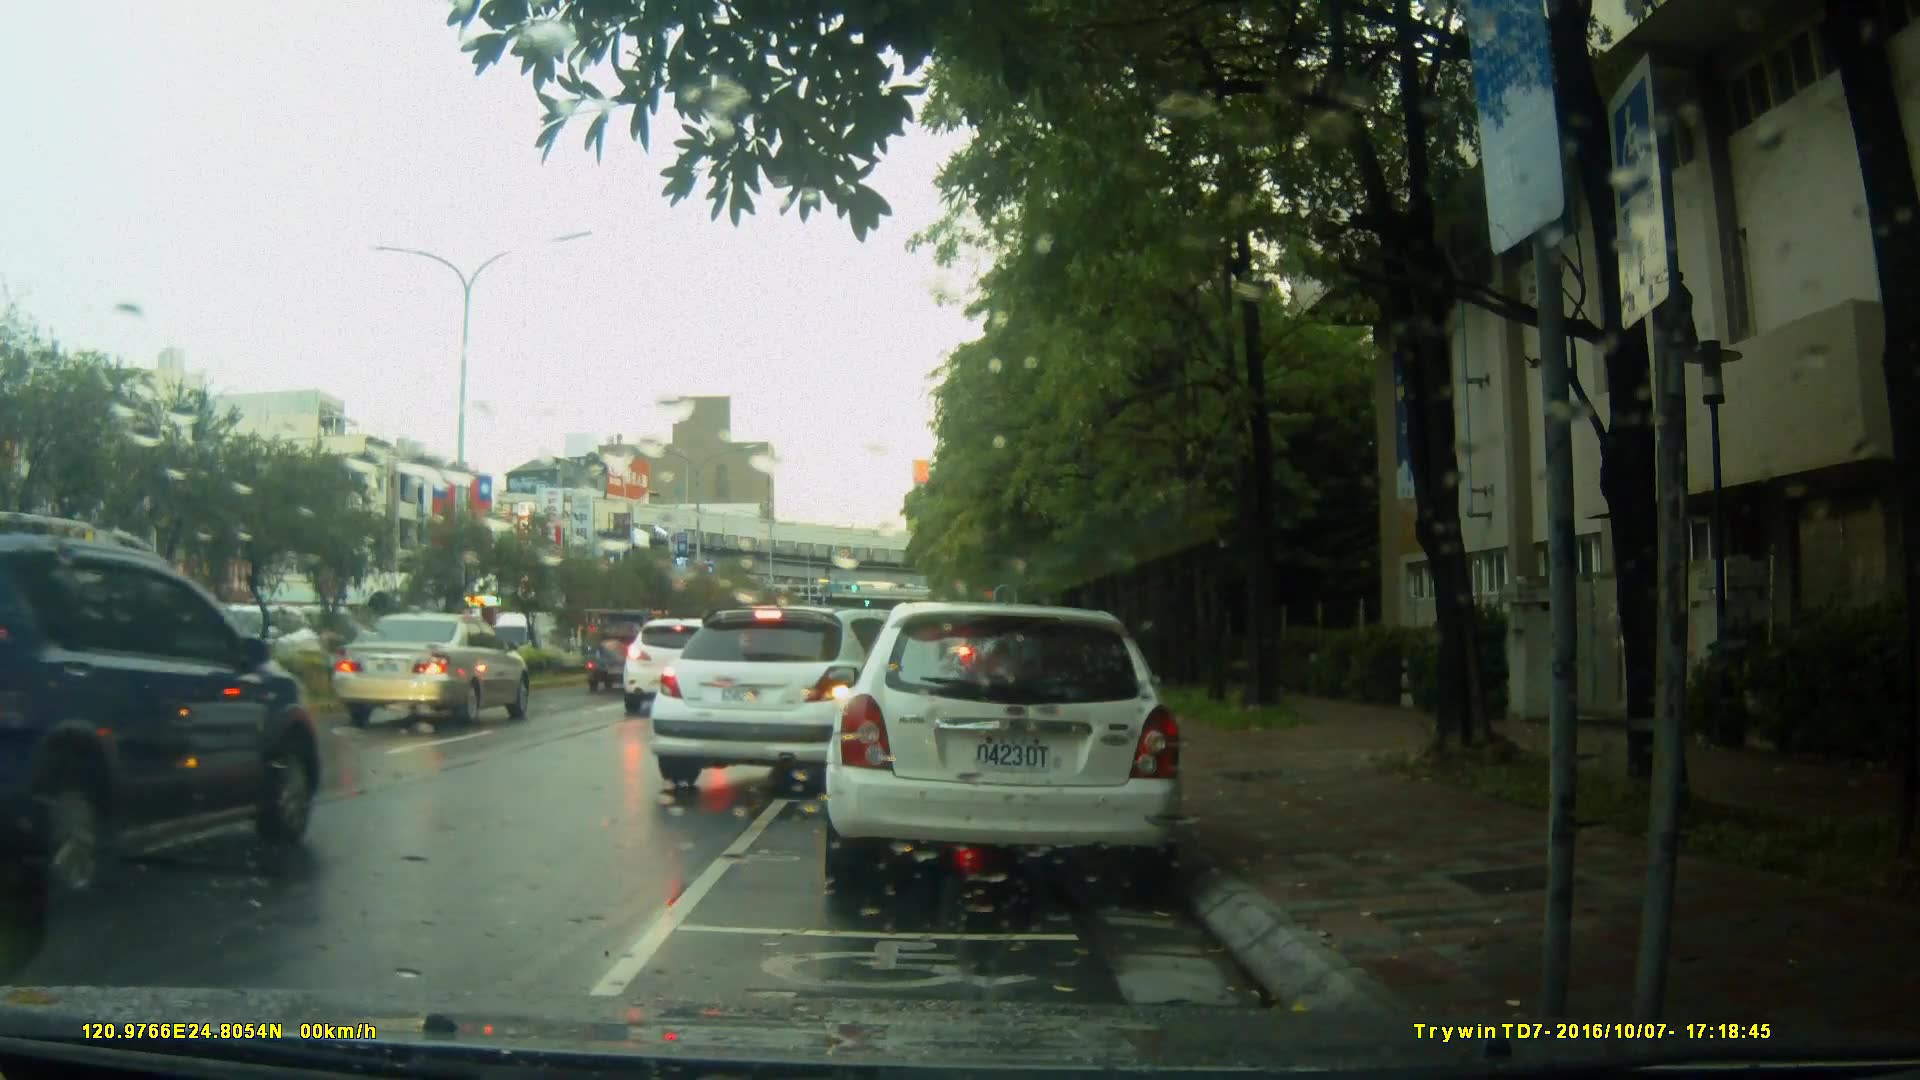vehicle: (7, 517, 326, 909), (820, 603, 1188, 898), (646, 603, 952, 800), (328, 613, 531, 727), (622, 616, 745, 720)
